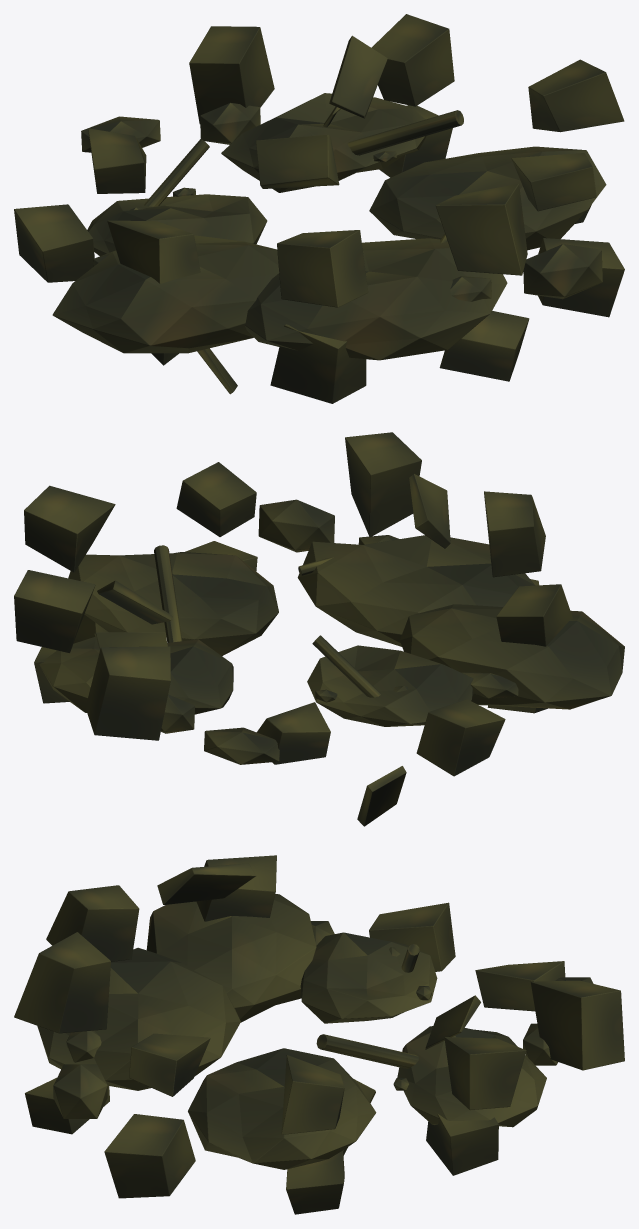
File: planet_crash_collar_v2.glb
3 renders of one model, top to bottom at view 1: azimuth 30°, elevation 25°; view 2: azimuth 150°, elevation 25°; view 3: azimuth 270°, elevation 25°, orthographic. The views are drawn at different scales.
Visible parts, largest first — view 1: Mound_2, Mound_4, Mound_1, Mound_3, Berm_7, Berm_6, Berm_11, Mound_0, Berm_10, Berm_9, Berm_13, Berm_15 (+15 smaller); view 2: Mound_2, Mound_4, Mound_1, Mound_0, Berm_11, Mound_3, Berm_7, Berm_9, Berm_10, Berm_13, Berm_6, Berm_8 (+14 smaller); view 3: Mound_1, Mound_4, Mound_2, Mound_0, Berm_7, Berm_11, Mound_3, Berm_17, Berm_10, Berm_6, Berm_9, Berm_8 (+12 smaller).
Boxes of the visible parts, x1=… form: Mound_2: x1=244, y1=238, x2=507, y2=360; Mound_4: x1=52, y1=235, x2=279, y2=353; Mound_1: x1=369, y1=146, x2=606, y2=250; Mound_3: x1=221, y1=93, x2=426, y2=192; Berm_7: x1=435, y1=183, x2=527, y2=275; Berm_6: x1=277, y1=230, x2=368, y2=307; Berm_11: x1=189, y1=26, x2=274, y2=123; Mound_0: x1=87, y1=194, x2=267, y2=256; Berm_10: x1=371, y1=14, x2=454, y2=106; Berm_9: x1=528, y1=59, x2=624, y2=132; Berm_13: x1=14, y1=204, x2=94, y2=282; Berm_15: x1=270, y1=324, x2=366, y2=403; Mound_2: x1=297, y1=535, x2=535, y2=646; Mound_4: x1=400, y1=604, x2=624, y2=709; Mound_1: x1=68, y1=552, x2=278, y2=655; Mound_0: x1=307, y1=645, x2=473, y2=726; Berm_11: x1=85, y1=646, x2=170, y2=740; Mound_3: x1=39, y1=637, x2=233, y2=714; Berm_7: x1=345, y1=432, x2=421, y2=537; Berm_9: x1=24, y1=485, x2=115, y2=572; Berm_10: x1=14, y1=570, x2=95, y2=652; Berm_13: x1=416, y1=699, x2=505, y2=776; Berm_6: x1=484, y1=491, x2=545, y2=577; Berm_8: x1=176, y1=462, x2=256, y2=536; Mound_1: x1=188, y1=1048, x2=376, y2=1169; Mound_4: x1=146, y1=894, x2=316, y2=1022; Mound_2: x1=37, y1=947, x2=240, y2=1090; Mound_0: x1=300, y1=932, x2=437, y2=1023; Berm_7: x1=14, y1=932, x2=110, y2=1033; Berm_11: x1=530, y1=980, x2=624, y2=1070; Mound_3: x1=397, y1=1026, x2=546, y2=1127; Berm_17: x1=104, y1=1114, x2=195, y2=1198; Berm_10: x1=444, y1=1037, x2=526, y2=1110; Berm_6: x1=46, y1=885, x2=139, y2=961; Berm_9: x1=281, y1=1055, x2=344, y2=1134; Berm_8: x1=129, y1=1033, x2=210, y2=1096.
Bounding box in the file's own units: 31.85 × 16.02 × 29.28.
1 material, 1 textured.
